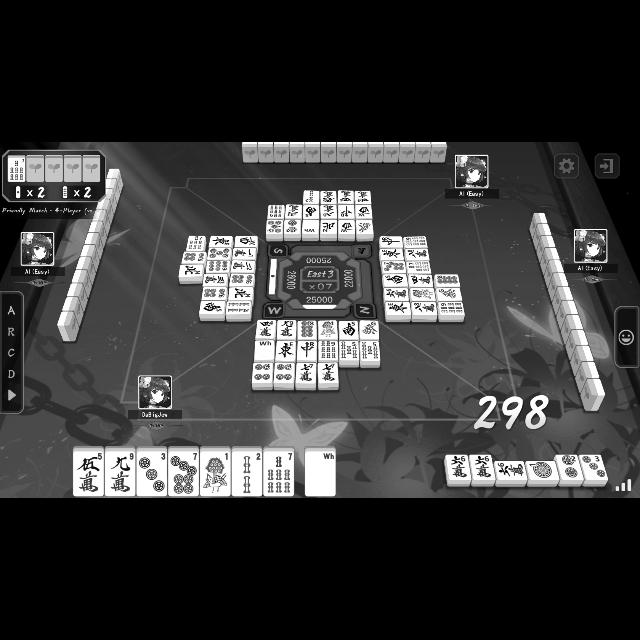1m: (234, 249, 256, 259)
1p: (530, 463, 554, 479)
1s: (202, 452, 228, 496), (318, 322, 336, 338), (412, 288, 434, 300)
2m: (233, 260, 253, 272)
2p: (561, 456, 579, 478), (286, 220, 298, 233)
2s: (233, 454, 261, 494), (306, 190, 316, 203)
3m: (204, 274, 226, 286), (287, 205, 299, 218)
3p: (138, 454, 166, 494), (581, 455, 605, 479)
4m: (410, 274, 432, 286), (258, 322, 274, 338), (356, 191, 370, 203), (340, 191, 352, 203)
4p: (254, 363, 272, 382), (276, 362, 292, 382)
4s: (228, 301, 250, 313)
5m: (75, 454, 103, 494), (322, 191, 334, 203)
5p: (267, 220, 283, 234), (210, 249, 230, 259)
5s: (341, 341, 359, 359), (362, 341, 378, 361)
6m: (449, 456, 468, 480), (497, 463, 525, 479), (474, 456, 492, 479), (384, 288, 408, 300)
6p: (204, 288, 226, 300), (231, 274, 253, 286), (184, 252, 204, 262)
7m: (299, 364, 315, 384), (319, 363, 335, 382)
7p: (170, 452, 198, 494), (384, 261, 404, 273)
7s: (265, 454, 293, 494), (8, 158, 24, 182), (408, 262, 429, 272)
8m: (412, 302, 436, 314), (406, 248, 428, 260), (323, 206, 335, 218)
8p: (298, 321, 316, 339), (436, 276, 458, 286)
9m: (106, 454, 134, 496), (278, 320, 296, 338)
9p: (207, 260, 229, 272)
9s: (321, 341, 337, 359), (440, 303, 462, 315), (188, 236, 204, 250), (406, 237, 426, 247), (269, 205, 283, 218)
chun: (299, 342, 315, 358), (381, 237, 401, 247), (340, 204, 354, 218)
haku: (307, 452, 335, 494), (256, 340, 274, 360), (304, 220, 318, 233)
hatsu: (360, 322, 378, 338), (437, 290, 461, 300), (358, 222, 372, 234)
nan: (340, 322, 358, 338), (383, 274, 407, 286), (202, 301, 224, 313), (304, 205, 318, 217)
pe: (230, 288, 252, 300), (180, 266, 202, 276), (322, 220, 336, 232)
sha: (356, 205, 372, 219), (237, 236, 256, 247), (340, 221, 354, 233)
tou: (277, 342, 295, 361), (385, 303, 409, 315), (380, 248, 402, 260), (210, 236, 232, 246)
